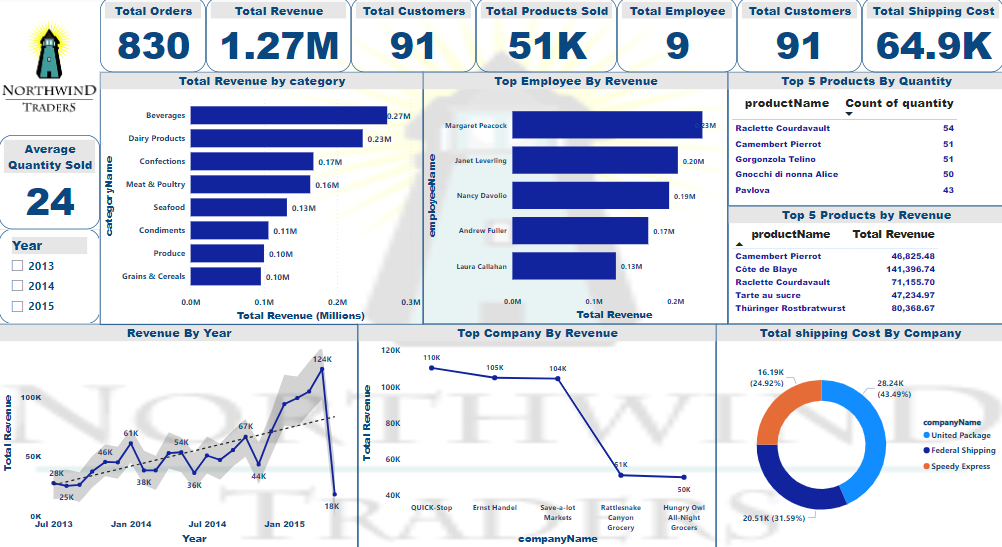

Layout of this report page (visuals, bound fields, positions):
{"tool":"powerbi","page":{"name":"Page 1","canvas":[1642,900],"ordinal":0},"visuals":[{"type":"card","title":"Total Orders","fields":{"Values":["order_details.orderID"]},"box":[165,0,173.1,122.5],"z":0},{"type":"card","title":"Total Revenue","fields":{"Values":["order_details.Total Revenue"]},"box":[338.1,0,236.8,122.5],"z":1000},{"type":"card","title":"Total Customers","fields":{"Values":["customers.customerID"]},"box":[575,0,204.2,122.5],"z":2000},{"type":"card","title":"Total Products Sold","fields":{"Values":["order_details.quantity"]},"box":[779.1,0,230.3,122.5],"z":3000},{"type":"card","title":"Total Employee","fields":{"Values":["orders.employeeID"]},"box":[1009.4,0,196,122.5],"z":4000},{"type":"card","title":"Total Customers","fields":{"Values":["customers.customerID"]},"box":[1205.4,0,204.2,122.5],"z":5000},{"type":"slicer","fields":{"Values":["orders.orderDate.Variation.Date Hierarchy.Year"]},"box":[0,378.9,165,155.2],"z":6000},{"type":"card","title":"Average Quantity Sold","fields":{"Values":["order_details.quantity"]},"box":[0,225.4,165,153.5],"z":7000},{"type":"tableEx","title":"Top 5 Products By Quantity","fields":{"Values":["products.productName","order_details.quantity"]},"box":[1190.7,122.5,450.8,218.9],"z":8000},{"type":"lineChart","title":"Revenue By Year","fields":{"Y":["order_details.Total Revenue"],"Category":["orders.orderDate.Variation.Date Hierarchy.Year","orders.orderDate.Variation.Date Hierarchy.Month"]},"box":[0,534.1,586.4,365.9],"z":9000},{"type":"donutChart","title":"Total shipping Cost By Company","fields":{"Category":["shippers.companyName"],"Y":["orders.freight"]},"box":[1171.1,534.1,470.4,365.9],"z":10000},{"type":"card","title":"Total Shipping Cost","fields":{"Values":["orders.freight"]},"box":[1409.6,0,231.9,122.5],"z":11000},{"type":"tableEx","title":"Top 5 Products by Revenue","fields":{"Values":["products.productName","order_details.Total Revenue"]},"box":[1190.7,341.4,450.8,192.7],"z":12000},{"type":"barChart","title":"Total Revenue by category","fields":{"Category":["categories.categoryName"],"Y":["order_details.Total Revenue"]},"box":[165,122.5,527.6,413.2],"z":13000},{"type":"lineChart","title":"Top Company By Revenue","fields":{"Category":["customers.companyName"],"Y":["order_details.Total Revenue"]},"box":[586.4,534.1,584.8,365.9],"z":14000},{"type":"barChart","title":"Top Employee By Revenue","fields":{"Category":["employees.employeeName"],"Y":["order_details.Total Revenue"]},"box":[692.6,122.5,498.2,411.6],"z":15000},{"type":"image","box":[0,0,164.2,226],"z":16000}]}

Visuals, with their boxes in screenshot pixels (x1, y1, x2, y2), scaled from the page's 1642x900 canvas onto the 1002x547 screenshot:
"Total Orders" card: (x1=101, y1=0, x2=206, y2=74)
"Total Revenue" card: (x1=206, y1=0, x2=351, y2=74)
"Total Customers" card: (x1=351, y1=0, x2=475, y2=74)
"Total Products Sold" card: (x1=475, y1=0, x2=616, y2=74)
"Total Employee" card: (x1=616, y1=0, x2=736, y2=74)
"Total Customers" card: (x1=736, y1=0, x2=860, y2=74)
slicer - orders.orderDate.Variation.Date Hierarchy.Year: (x1=0, y1=230, x2=101, y2=325)
"Average Quantity Sold" card: (x1=0, y1=137, x2=101, y2=230)
"Top 5 Products By Quantity" tableEx: (x1=727, y1=74, x2=1001, y2=207)
"Revenue By Year" lineChart: (x1=0, y1=325, x2=358, y2=546)
"Total shipping Cost By Company" donutChart: (x1=715, y1=325, x2=1001, y2=546)
"Total Shipping Cost" card: (x1=860, y1=0, x2=1001, y2=74)
"Top 5 Products by Revenue" tableEx: (x1=727, y1=207, x2=1001, y2=325)
"Total Revenue by category" barChart: (x1=101, y1=74, x2=423, y2=326)
"Top Company By Revenue" lineChart: (x1=358, y1=325, x2=715, y2=546)
"Top Employee By Revenue" barChart: (x1=423, y1=74, x2=727, y2=325)
image: (x1=0, y1=0, x2=100, y2=137)
